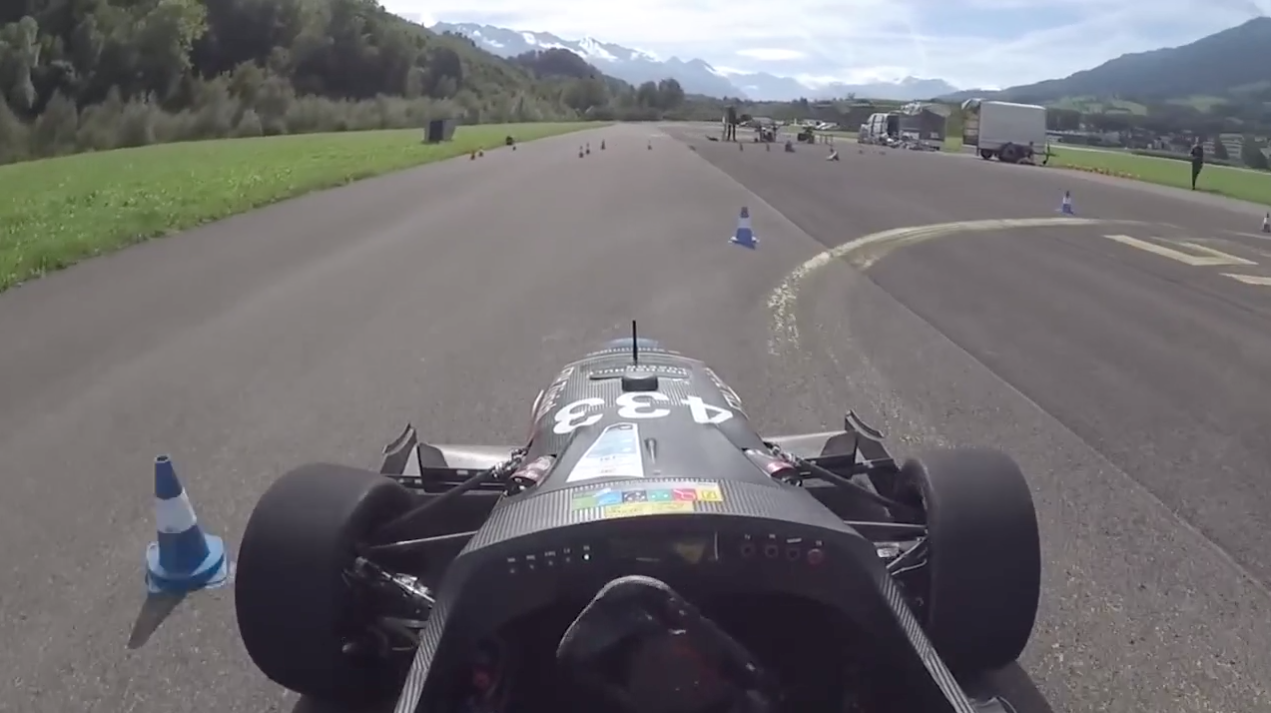lcone: (127, 447, 242, 604), (724, 202, 767, 251)
